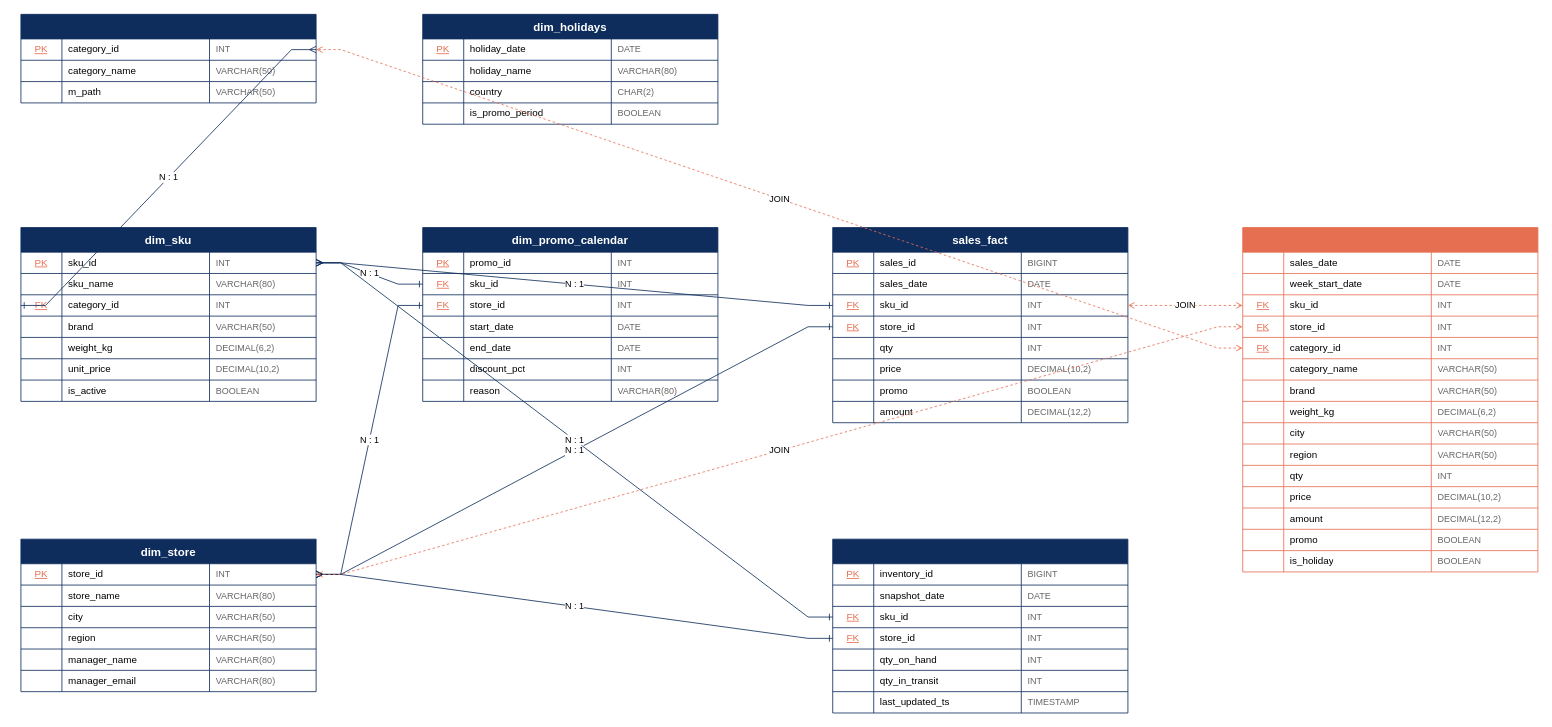
Some shapes in this 1552 by 727 pixel diagram are drawn without their labels. Each missing label, with the box of its shape:
dataset: (1242, 227, 1538, 572)
dim_category: (20, 14, 316, 103)
inventory_snapshot: (832, 538, 1128, 713)
